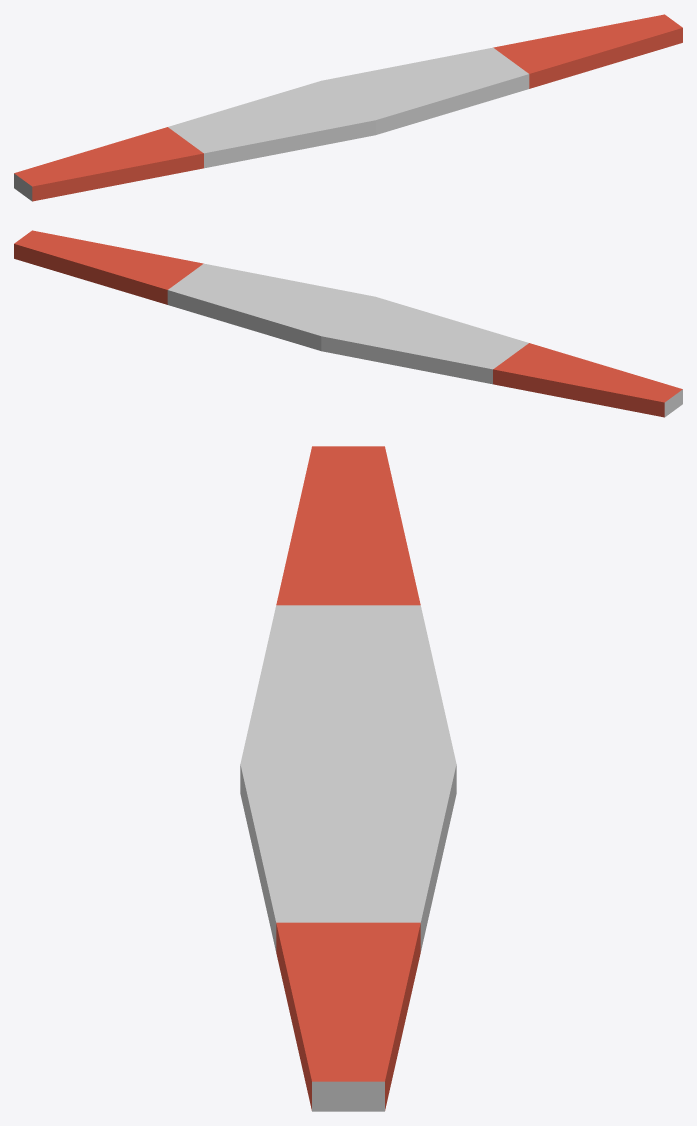
Rendered from propellor_big.glb.
3 views of the same model, one above another, from view 1: azimuth 30°, elevation 25°; view 2: azimuth 150°, elevation 25°; view 3: azimuth 270°, elevation 25° (orthographic). The views are drawn at different scales.
Parts seen in each view (by area): view 1: Cube.002; view 2: Cube.002; view 3: Cube.002.
Boxes of the visible parts, x1=… form: Cube.002: x1=14, y1=14, x2=682, y2=201; Cube.002: x1=14, y1=230, x2=682, y2=417; Cube.002: x1=240, y1=446, x2=456, y2=1111.
Size of the model in its own units: 4.08 by 0.0899 by 0.5875.
